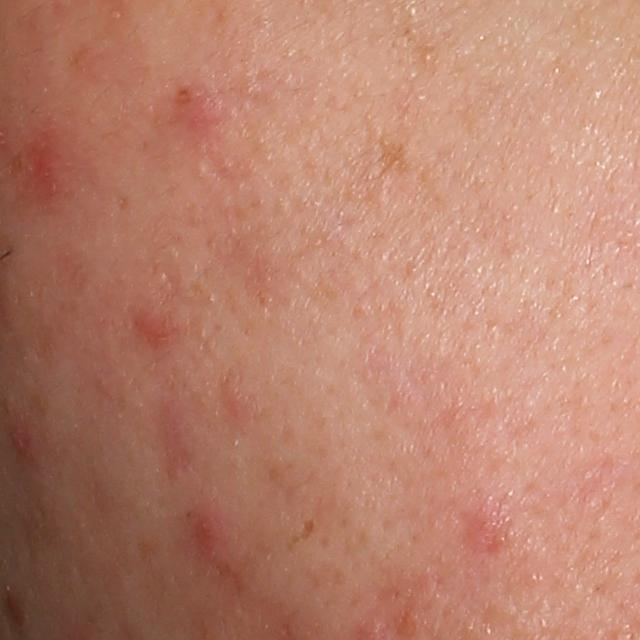papule: (459, 501, 515, 556), (28, 135, 67, 203), (168, 81, 225, 124), (134, 304, 183, 349), (194, 508, 228, 566), (9, 424, 38, 457)
